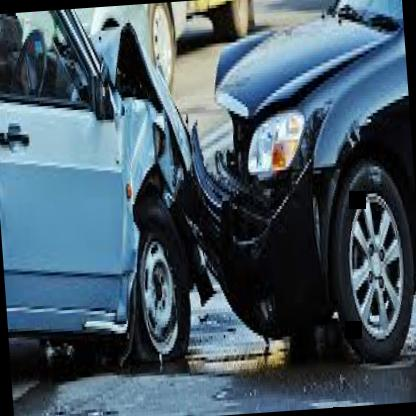accident: (3, 0, 390, 402)
